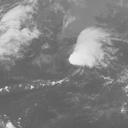cyclone: (68, 27, 109, 68)
